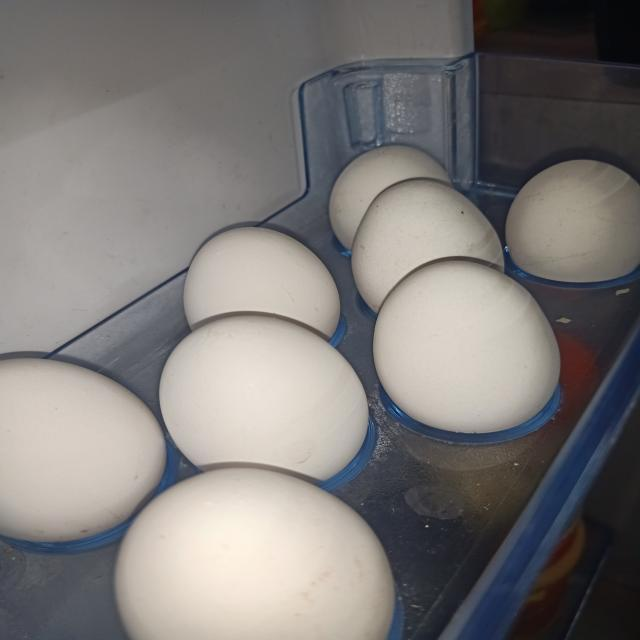Egg: (115, 469, 394, 640), (158, 316, 368, 484), (373, 260, 561, 433), (0, 359, 165, 543), (352, 179, 504, 312), (183, 227, 340, 340), (506, 159, 640, 282), (329, 145, 451, 250)
